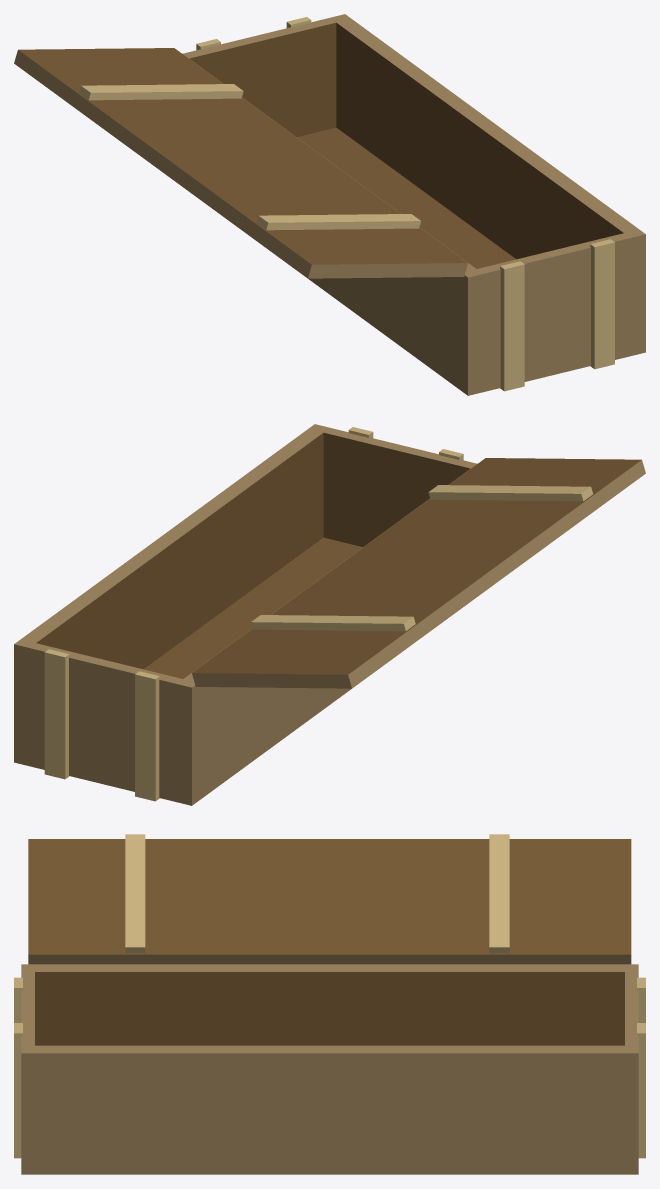
The model's file is Cart_2.FBX.
The picture shows the model from 3 angles, top to bottom: view 1: azimuth 30°, elevation 25°; view 2: azimuth 150°, elevation 25°; view 3: azimuth 270°, elevation 25°; orthographic projection. The views are drawn at different scales.
Visible parts, largest first — view 1: cart_2; view 2: cart_2; view 3: cart_2.
Boxes of the visible parts, x1=… form: cart_2: x1=14, y1=14, x2=645, y2=395; cart_2: x1=14, y1=424, x2=645, y2=805; cart_2: x1=14, y1=834, x2=645, y2=1174.
Bounding box in the file's own units: 1.05 × 0.5199 × 1.67.
1 material, 1 textured.
